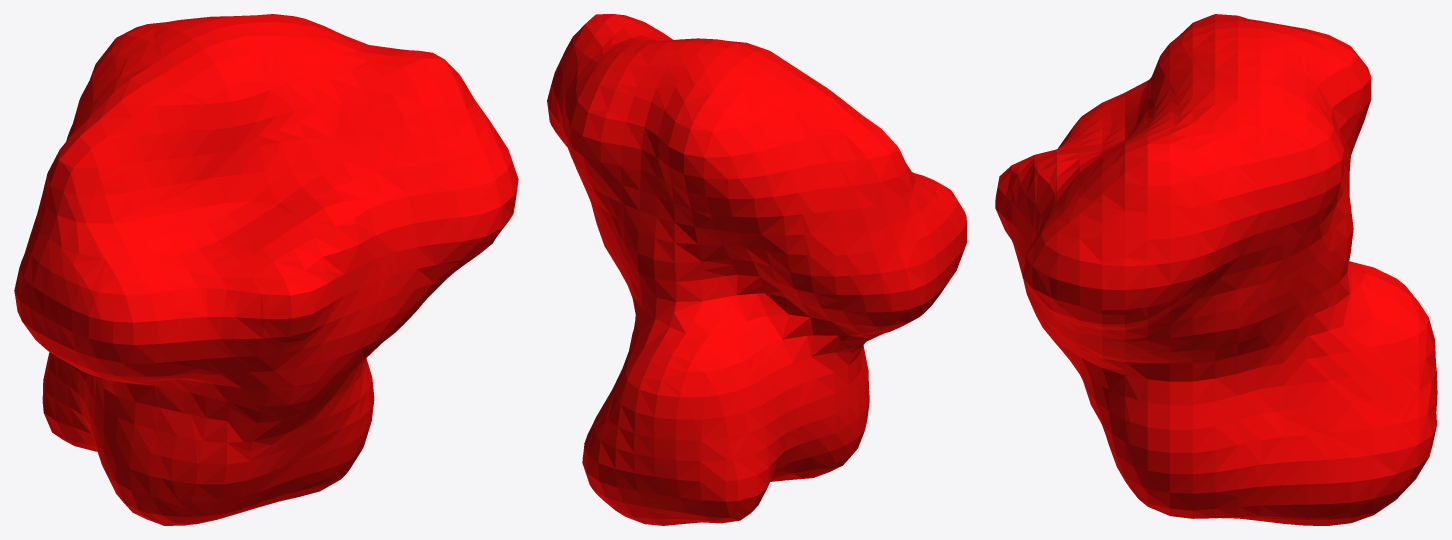
The model's file is hha_coarse.dae.
3 views of the same model, side by side, from view 1: azimuth 30°, elevation 25°; view 2: azimuth 150°, elevation 25°; view 3: azimuth 270°, elevation 25° (orthographic). The views are drawn at different scales.
Visible parts, largest first — view 1: hha; view 2: hha; view 3: hha.
Boxes of the visible parts, bbox=[...] form: hha: bbox=[14, 14, 518, 525]; hha: bbox=[547, 14, 966, 525]; hha: bbox=[995, 14, 1437, 525].
Bounding box in the file's own units: 36.83 × 38.02 × 31.85.
